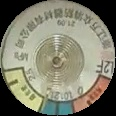green: (42, 98, 75, 115)
needle: (43, 84, 54, 114)
red: (73, 73, 111, 114)
yellow: (3, 67, 45, 114)
